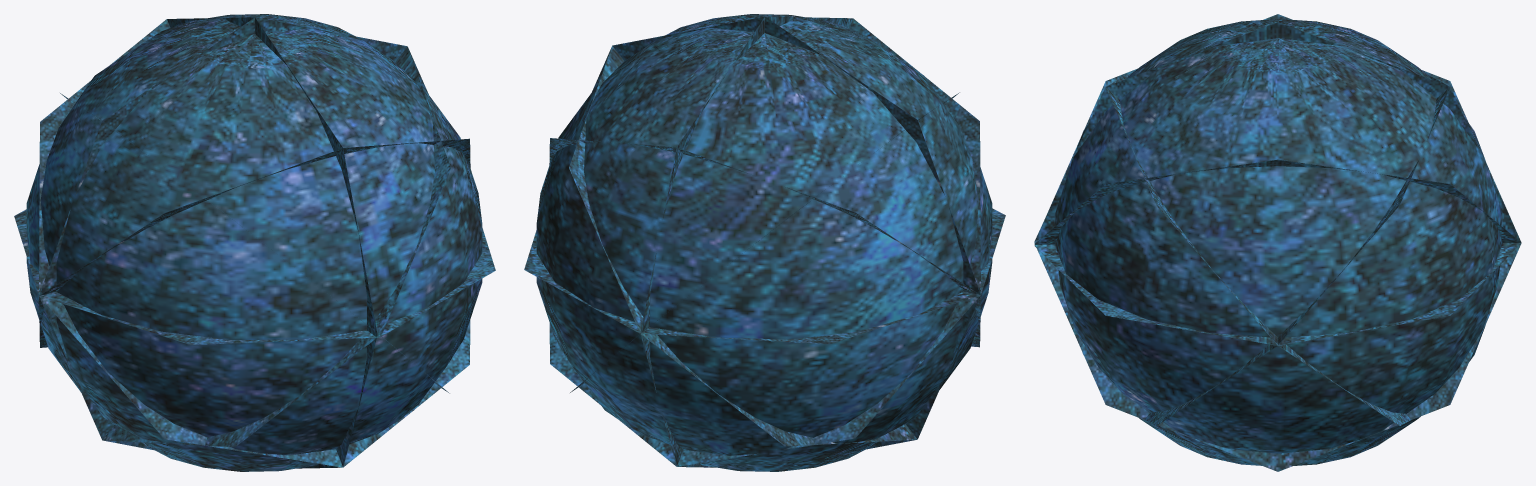
Rendered from moonlight.fbx.
3 views of the same model, side by side, from view 1: azimuth 30°, elevation 25°; view 2: azimuth 150°, elevation 25°; view 3: azimuth 270°, elevation 25° (orthographic). The views are drawn at different scales.
Visible parts, largest first — view 1: af_electra_moonlight; view 2: af_electra_moonlight; view 3: af_electra_moonlight.
Part boxes in pixels (x1=…): af_electra_moonlight: x1=14, y1=14, x2=495, y2=471; af_electra_moonlight: x1=524, y1=14, x2=1005, y2=471; af_electra_moonlight: x1=1034, y1=14, x2=1521, y2=471.
Bounding box in the file's own units: 32.1 × 32.1 × 32.1.
